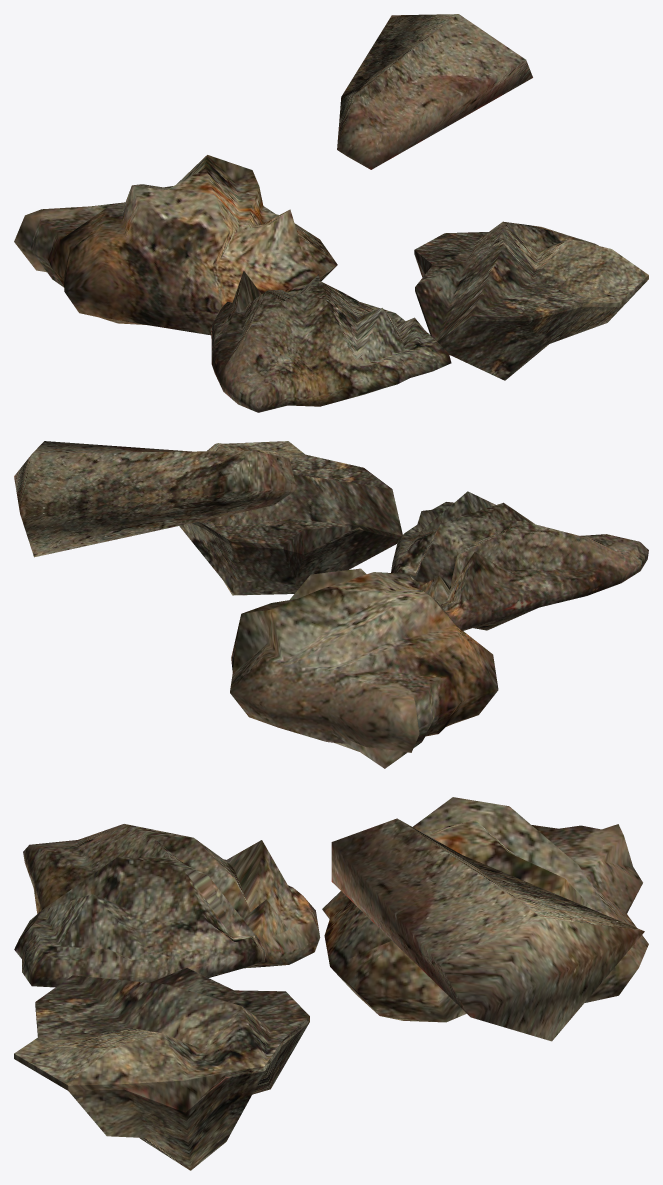
Rendered from ercha.FBX.
The picture shows the model from 3 angles, top to bottom: view 1: azimuth 30°, elevation 25°; view 2: azimuth 150°, elevation 25°; view 3: azimuth 270°, elevation 25°; orthographic projection. The views are drawn at different scales.
Visible parts, largest first — view 1: Line001, Line003, Line002, Box002; view 2: Line001, Box002, Line002, Line003; view 3: Line002, Line003, Box002, Line001.
Part boxes in pixels (bbox=[...]): Line001: bbox=[14, 155, 337, 335]; Line003: bbox=[414, 221, 648, 380]; Line002: bbox=[210, 271, 451, 412]; Box002: bbox=[337, 14, 532, 169]; Line001: bbox=[230, 568, 498, 768]; Box002: bbox=[14, 441, 296, 557]; Line002: bbox=[391, 491, 648, 630]; Line003: bbox=[179, 441, 402, 595]; Line002: bbox=[14, 824, 320, 987]; Line003: bbox=[14, 968, 309, 1170]; Box002: bbox=[331, 818, 644, 1041]; Line001: bbox=[322, 797, 648, 1022].
Bounding box in the file's own units: 516 × 237 × 468.
Materials: 1 (1 with a texture image).
